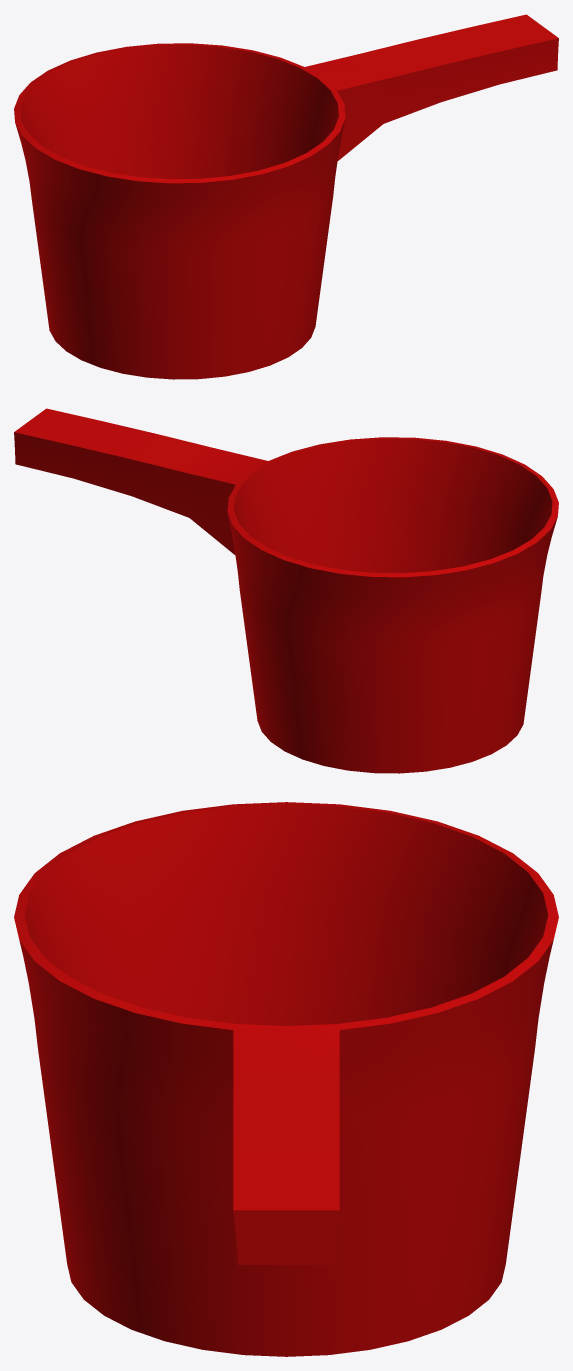
File: gayung.obj
3 views of the same model, one above another, from view 1: azimuth 30°, elevation 25°; view 2: azimuth 150°, elevation 25°; view 3: azimuth 270°, elevation 25° (orthographic). The views are drawn at different scales.
Parts seen in each view (by area): view 1: gayung; view 2: gayung; view 3: gayung.
Part boxes in pixels (<box>): gayung: <box>14,14,558,379</box>; gayung: <box>14,408,558,773</box>; gayung: <box>14,802,558,1356</box>.
Size of the model in its own units: 0.1188 by 0.0475 by 0.0674.
